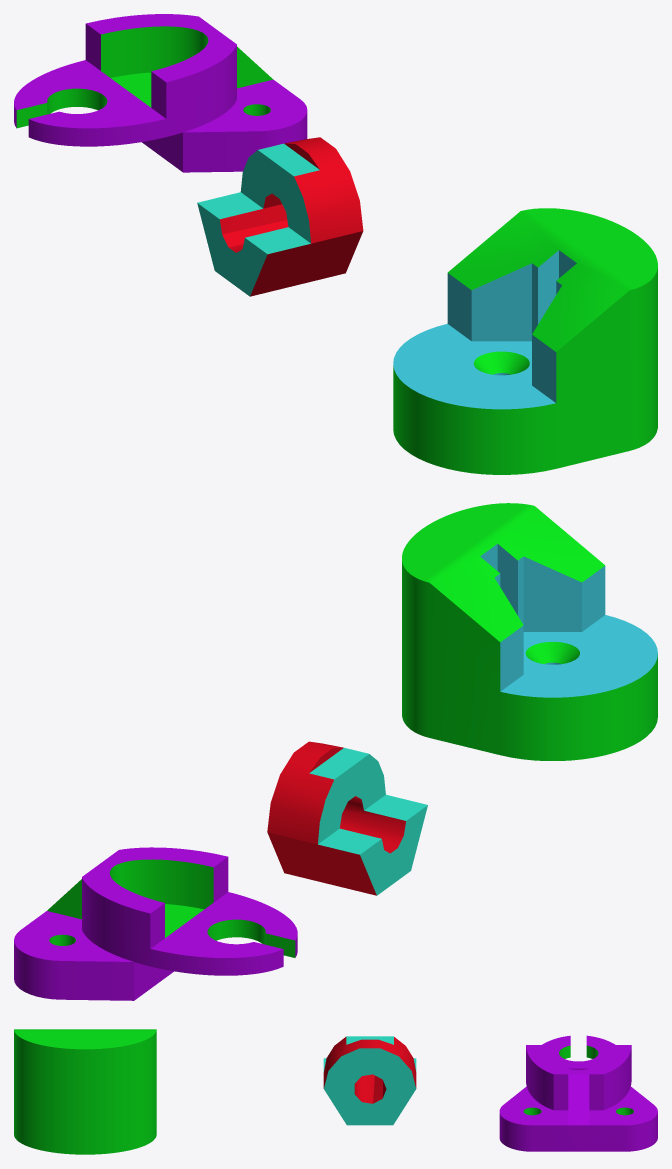
The picture shows the model from 3 angles, top to bottom: view 1: azimuth 30°, elevation 25°; view 2: azimuth 150°, elevation 25°; view 3: azimuth 270°, elevation 25°; orthographic projection. The views are drawn at different scales.
Visible parts, largest first — view 1: tut3qn2a (1), tut3qn2c, tut3qn1a(new); view 2: tut3qn2a (1), tut3qn2c, tut3qn1a(new); view 3: tut3qn2a (1), tut3qn2c, tut3qn1a(new).
Boxes of the visible parts, box(x1,y1,x2,y2) form: tut3qn2a (1): box(393, 208, 657, 474); tut3qn2c: box(14, 14, 307, 172); tut3qn1a(new): box(197, 137, 363, 296); tut3qn2a (1): box(402, 503, 657, 760); tut3qn2c: box(14, 847, 297, 1000); tut3qn1a(new): box(267, 741, 427, 895); tut3qn2a (1): box(14, 1029, 156, 1154); tut3qn2c: box(499, 1035, 657, 1151); tut3qn1a(new): box(323, 1036, 416, 1125).
Size of the model in its own units: 13.93 by 8.83 by 48.75.
